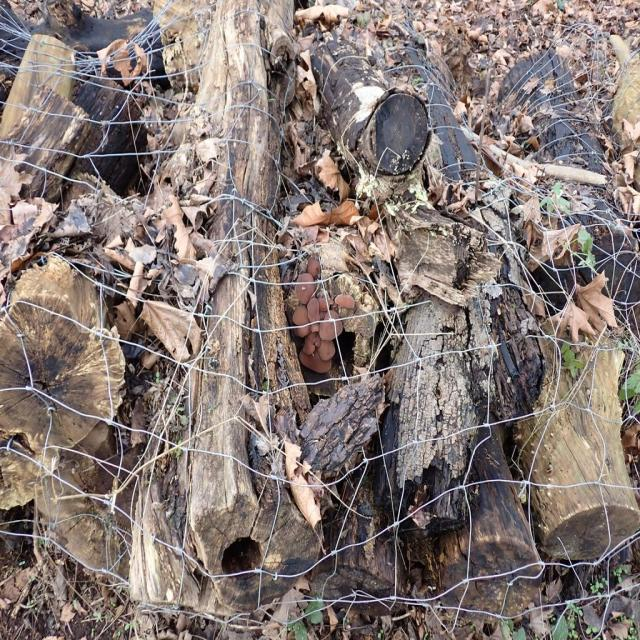Fase Muda: (298, 350, 335, 373), (320, 312, 342, 339), (295, 272, 314, 302), (292, 303, 307, 340), (334, 292, 358, 314), (308, 298, 321, 334), (318, 334, 336, 358), (301, 332, 321, 353), (307, 256, 321, 281), (318, 295, 330, 313)
primordia: (353, 276, 359, 286)
